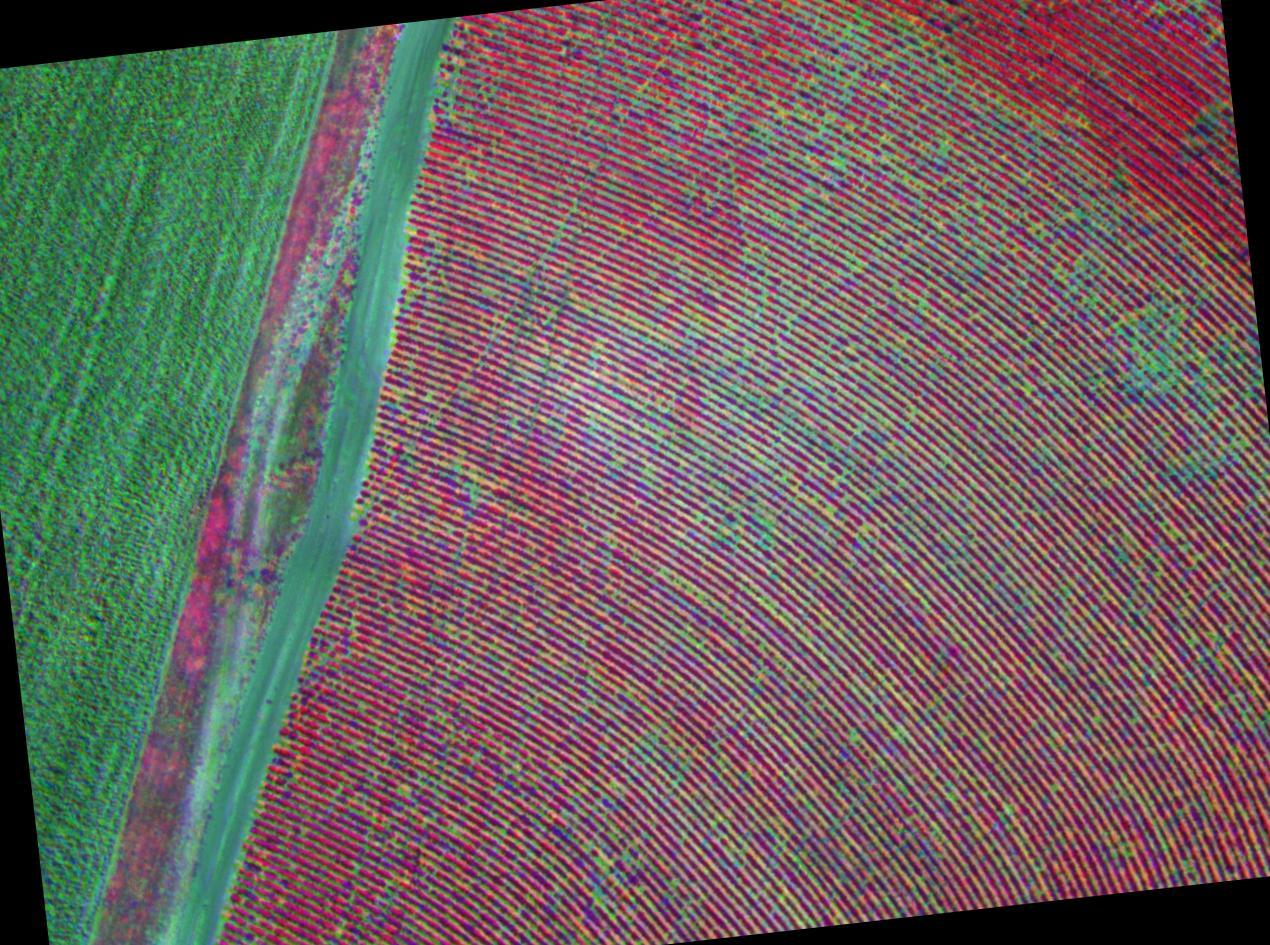dc: (942, 143, 947, 149), (1024, 388, 1029, 394), (851, 735, 856, 740), (595, 898, 599, 903), (598, 859, 602, 862), (353, 621, 355, 625), (471, 486, 473, 489)
